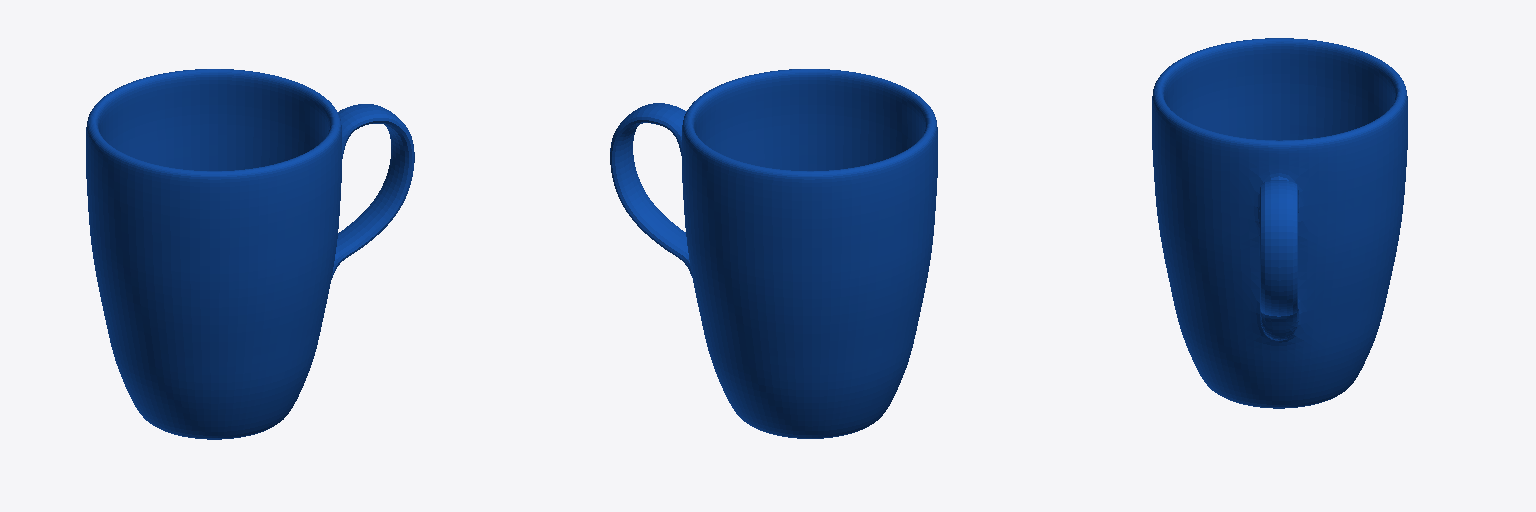
File: coffee_cup.obj
3 views of the same model, side by side, from view 1: azimuth 30°, elevation 25°; view 2: azimuth 150°, elevation 25°; view 3: azimuth 270°, elevation 25° (orthographic).
Visible parts, largest first — view 1: cup; view 2: cup; view 3: cup.
Part boxes in pixels (bbox=[...]): cup: bbox=[86, 69, 414, 439]; cup: bbox=[610, 69, 937, 438]; cup: bbox=[1152, 38, 1407, 408].
Bounding box in the file's own units: 6.83 × 6.22 × 4.96.